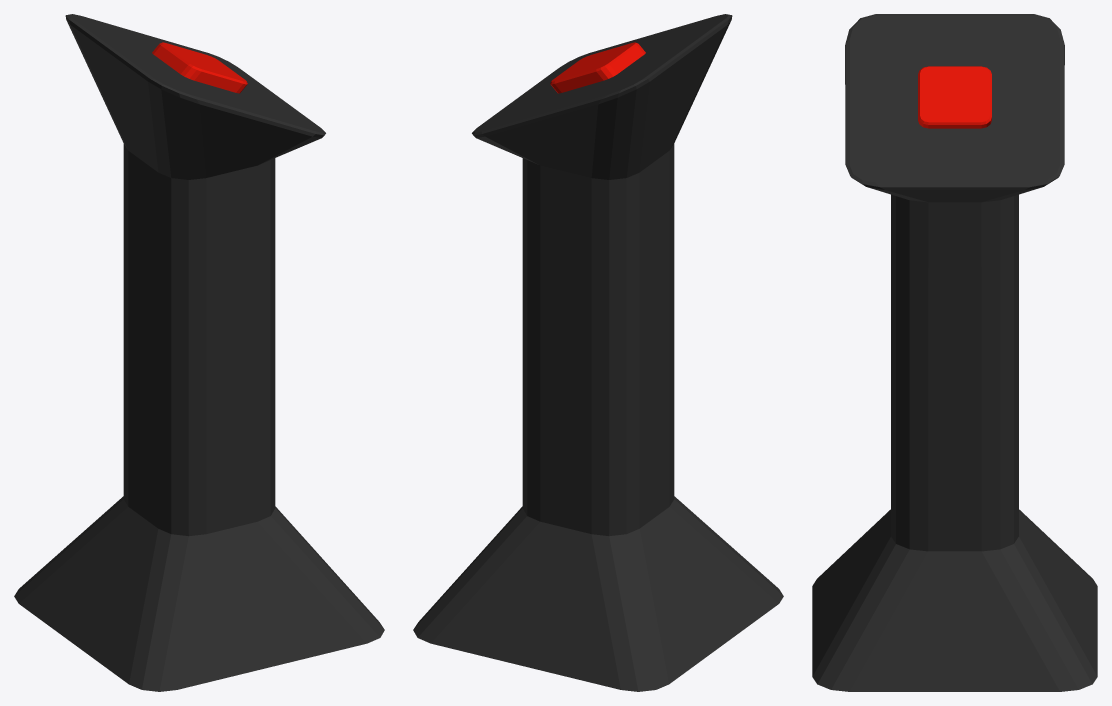
File: button.fbx
3 renders of one model, left to right at view 1: azimuth 30°, elevation 25°; view 2: azimuth 150°, elevation 25°; view 3: azimuth 270°, elevation 25°, orthographic. The views are drawn at different scales.
Parts seen in each view (by area): view 1: Cube; view 2: Cube; view 3: Cube.
Part boxes in pixels (<box>): Cube: <box>14,14,384,691</box>; Cube: <box>413,14,783,691</box>; Cube: <box>812,14,1097,691</box>.
Bounding box in the file's own units: 48.86 × 109 × 48.86.
